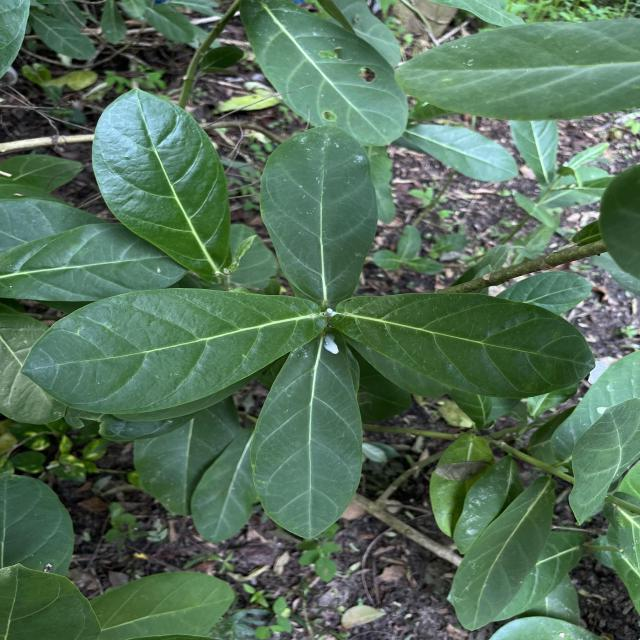Calotropis gigantea: (15, 287, 328, 417), (328, 290, 598, 400), (90, 85, 233, 284), (236, 0, 410, 147), (247, 325, 364, 543), (258, 123, 380, 305), (0, 222, 190, 302)
